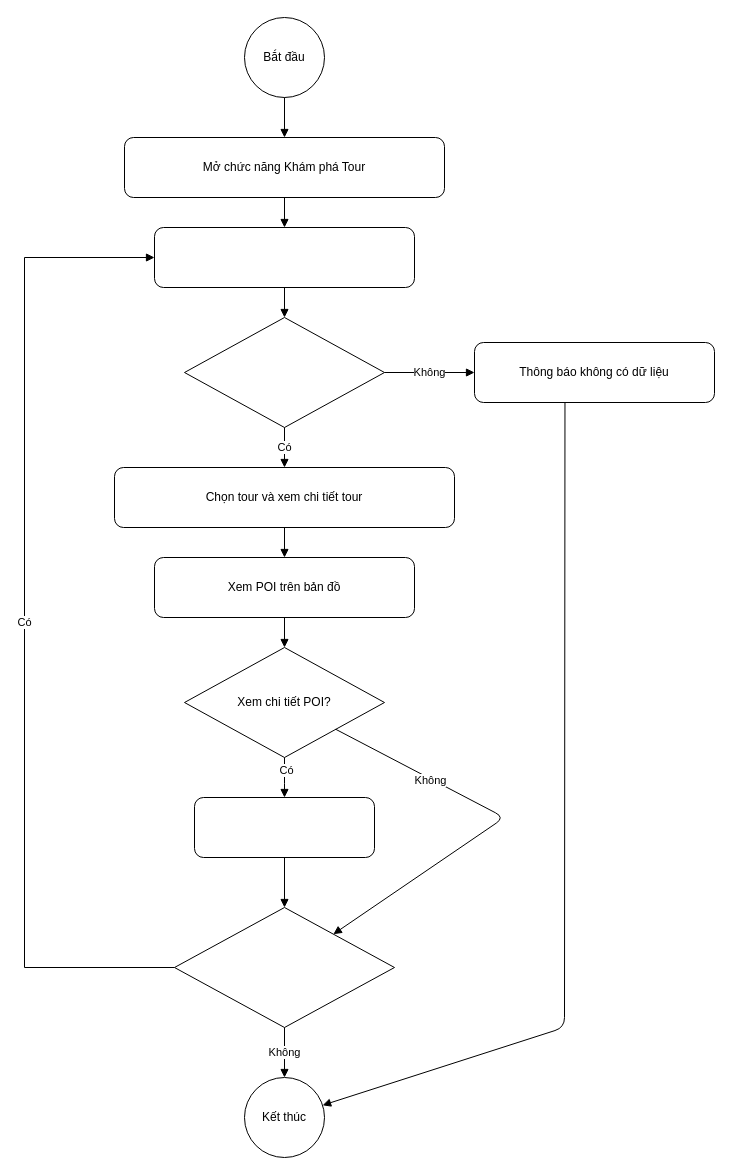
Some shapes in this 732 by 1175 pixel diagram are drawn without their labels. Each missing label, with the box of its shape:
Có tour phù hợp?: (184, 316, 384, 428)
Khám phá tour khác?: (174, 906, 394, 1028)
Mở chi tiết POI: (194, 796, 374, 858)
Xem danh sách tour: (154, 226, 414, 288)
